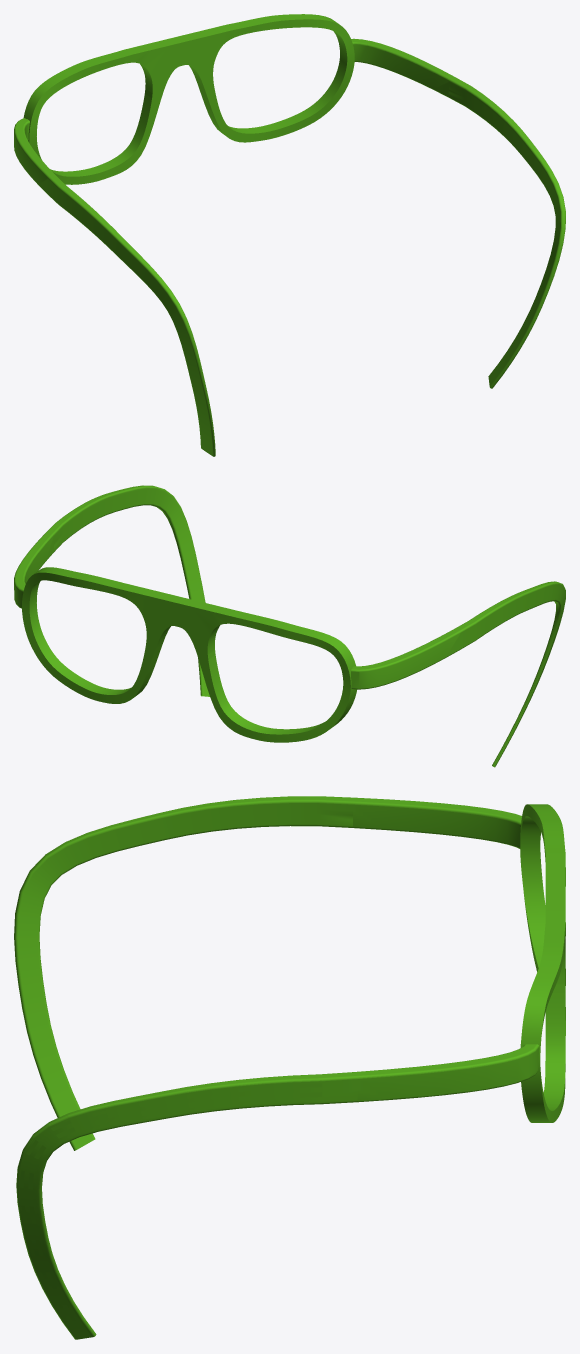
The model's file is glass-leon.obj.
3 renders of one model, top to bottom at view 1: azimuth 30°, elevation 25°; view 2: azimuth 150°, elevation 25°; view 3: azimuth 270°, elevation 25°, orthographic. The views are drawn at different scales.
Parts seen in each view (by area): view 1: Loft014; view 2: Loft014; view 3: Loft014.
Part boxes in pixels (x1,y1,x2,y2): Loft014: (14,14,565,456); Loft014: (14,485,565,767); Loft014: (14,796,565,1339).
Size of the model in its own units: 134 by 78.53 by 110.
